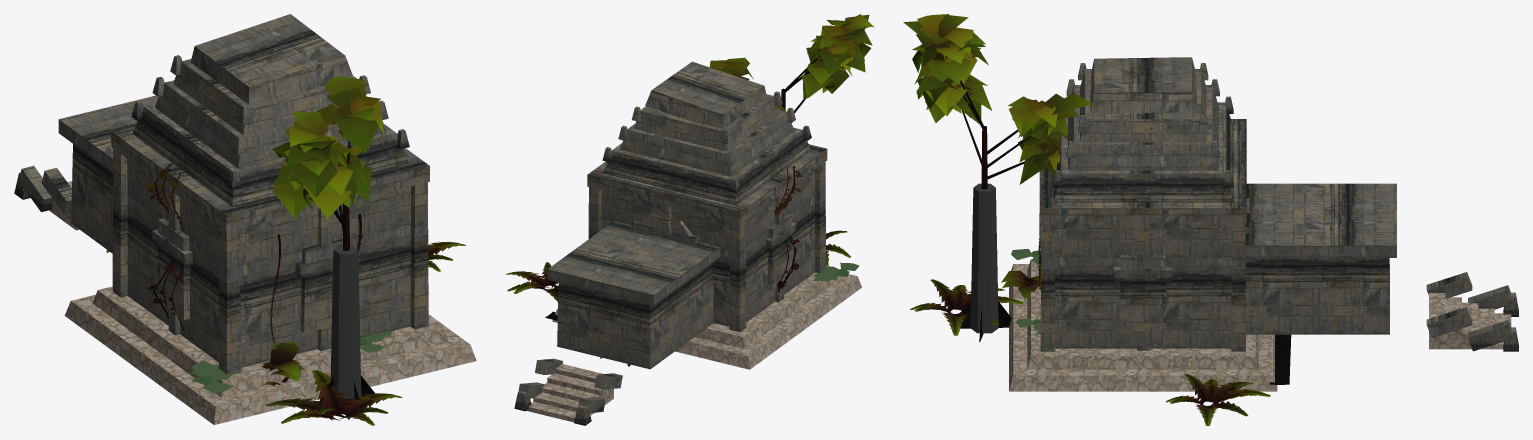
Rendered from prasat_ruin_04.glb.
3 views of the same model, side by side, from view 1: azimuth 30°, elevation 25°; view 2: azimuth 150°, elevation 25°; view 3: azimuth 270°, elevation 25° (orthographic). The views are drawn at different scales.
Parts seen in each view (by area): view 1: prasat_ruin_04, prasat_ruin_04_veg_00_broadleaf_b, prasat_ruin_04-col, prasat_ruin_04_veg_10_fern_b, prasat_ruin_04_veg_09_bush_b, prasat_ruin_04_veg_13_moss_b, prasat_ruin_04_veg_04_trunk_vine_a, prasat_ruin_04_veg_08_fern_b; view 2: prasat_ruin_04, prasat_ruin_04_veg_00_broadleaf_b, prasat_ruin_04_veg_08_fern_b, prasat_ruin_04_veg_13_moss_b, prasat_ruin_04_veg_04_trunk_vine_a; view 3: prasat_ruin_04, prasat_ruin_04_veg_00_broadleaf_b, prasat_ruin_04-col, prasat_ruin_04_veg_08_fern_b, prasat_ruin_04_veg_10_fern_b, prasat_ruin_04_veg_14_fallen_log_b, prasat_ruin_04_veg_09_bush_b.
Boxes of the visible parts, left/top/right/bottom form: prasat_ruin_04: left=14, top=14, right=476, bottom=424; prasat_ruin_04_veg_00_broadleaf_b: left=272, top=76, right=383, bottom=414; prasat_ruin_04-col: left=330, top=245, right=361, bottom=403; prasat_ruin_04_veg_10_fern_b: left=266, top=370, right=402, bottom=425; prasat_ruin_04_veg_09_bush_b: left=261, top=342, right=304, bottom=385; prasat_ruin_04_veg_13_moss_b: left=190, top=360, right=241, bottom=393; prasat_ruin_04_veg_04_trunk_vine_a: left=145, top=164, right=174, bottom=317; prasat_ruin_04_veg_08_fern_b: left=428, top=241, right=465, bottom=271; prasat_ruin_04: left=514, top=61, right=861, bottom=425; prasat_ruin_04_veg_00_broadleaf_b: left=709, top=14, right=873, bottom=113; prasat_ruin_04_veg_08_fern_b: left=506, top=262, right=558, bottom=302; prasat_ruin_04_veg_13_moss_b: left=813, top=262, right=859, bottom=281; prasat_ruin_04_veg_04_trunk_vine_a: left=774, top=165, right=802, bottom=292; prasat_ruin_04: left=1009, top=57, right=1518, bottom=391; prasat_ruin_04_veg_00_broadleaf_b: left=903, top=14, right=1091, bottom=342; prasat_ruin_04-col: left=970, top=183, right=998, bottom=333; prasat_ruin_04_veg_08_fern_b: left=1166, top=373, right=1270, bottom=425; prasat_ruin_04_veg_10_fern_b: left=910, top=279, right=1023, bottom=335; prasat_ruin_04_veg_14_fallen_log_b: left=1270, top=334, right=1291, bottom=384; prasat_ruin_04_veg_09_bush_b: left=1001, top=270, right=1039, bottom=299.
Size of the model in its own units: 8.26 by 6.92 by 13.49.
14 materials, 14 textured.
